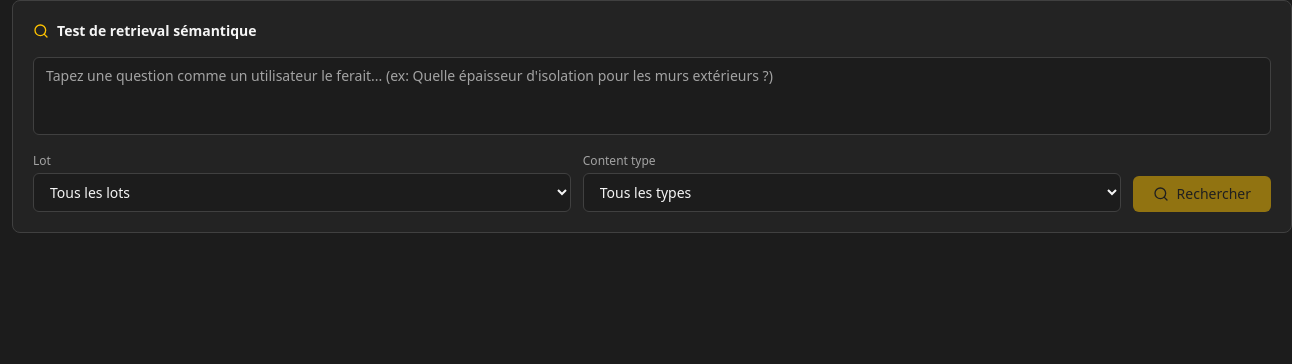
Test: RetrievalPlayground — aucun résultat › une recherche réussie avec zéro résultat affiche le message Aucun chunk trouvé pour cette requête
This screenshot has width=1292, height=364.
Type "épaisseur isolation" into the text box. click: (652, 96)
box: [33,57,1271,135]
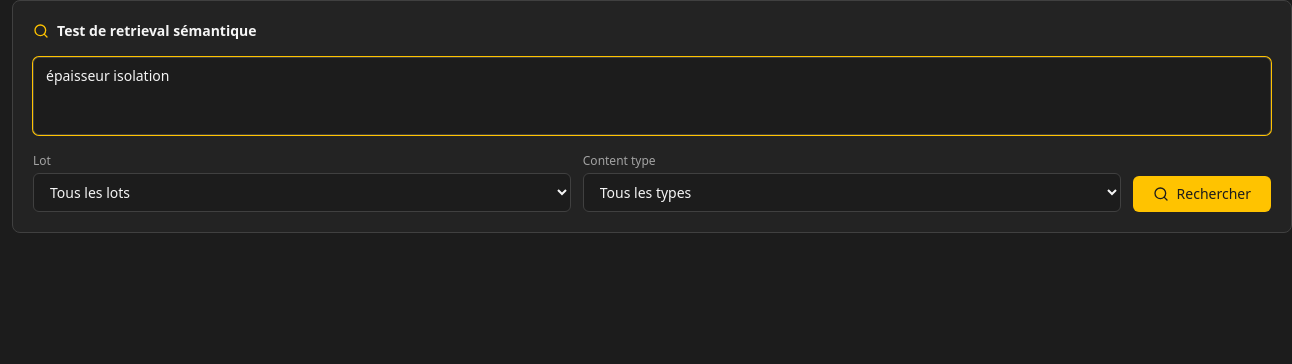
Click the button "Rechercher". click: (1202, 194)
box: [1133,176,1271,212]
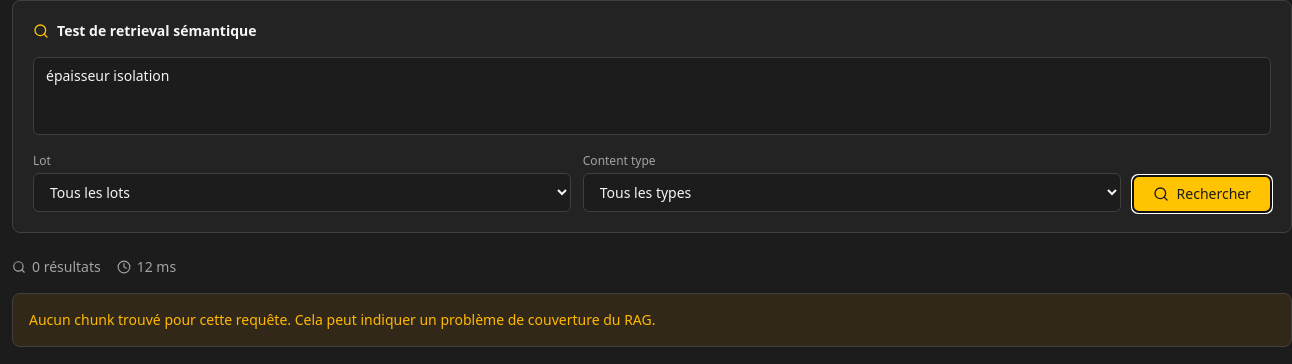
Expected: the text "Aucun chunk trouvé pour cette requête" is shown, [29,310,656,329]
